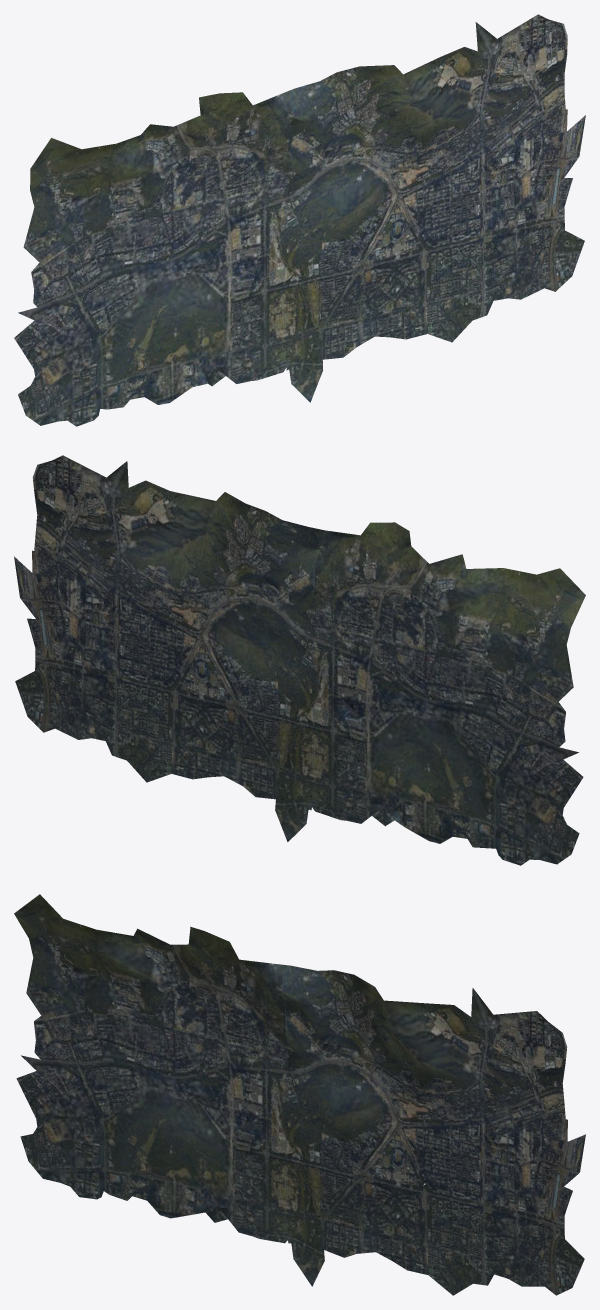
The picture shows the model from 3 angles, top to bottom: view 1: azimuth 30°, elevation 25°; view 2: azimuth 150°, elevation 25°; view 3: azimuth 330°, elevation 25°; orthographic projection.
Parts seen in each view (by area): view 1: D:\DingMaPostDoc\BIM\OSGB\3.5公分成果\Data\Model\tile_0_0_0_tex_chil; view 2: D:\DingMaPostDoc\BIM\OSGB\3.5公分成果\Data\Model\tile_0_0_0_tex_chil; view 3: D:\DingMaPostDoc\BIM\OSGB\3.5公分成果\Data\Model\tile_0_0_0_tex_chil.
Boxes of the visible parts, left/top/right/bottom form: D:\DingMaPostDoc\BIM\OSGB\3.5公分成果\Data\Model\tile_0_0_0_tex_chil: left=14, top=14, right=585, bottom=426; D:\DingMaPostDoc\BIM\OSGB\3.5公分成果\Data\Model\tile_0_0_0_tex_chil: left=14, top=455, right=585, bottom=865; D:\DingMaPostDoc\BIM\OSGB\3.5公分成果\Data\Model\tile_0_0_0_tex_chil: left=14, top=894, right=585, bottom=1295.
Bounding box in the file's own units: 8525 × 4878 × 306.
